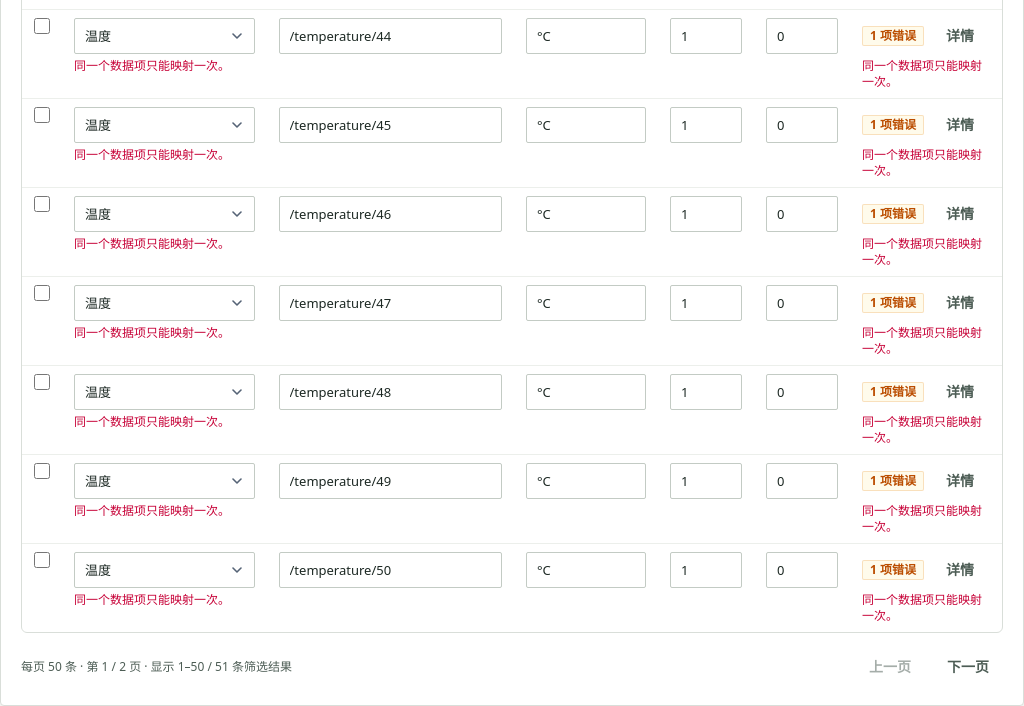
Test: 点位映射表分页 › 删除末页最后一行后自动回到仍有数据的页
(page scrolled)
Click the button with aria-label "点位映射：下一页": [968, 667] box [933,649,1003,685]
(page scrolled)
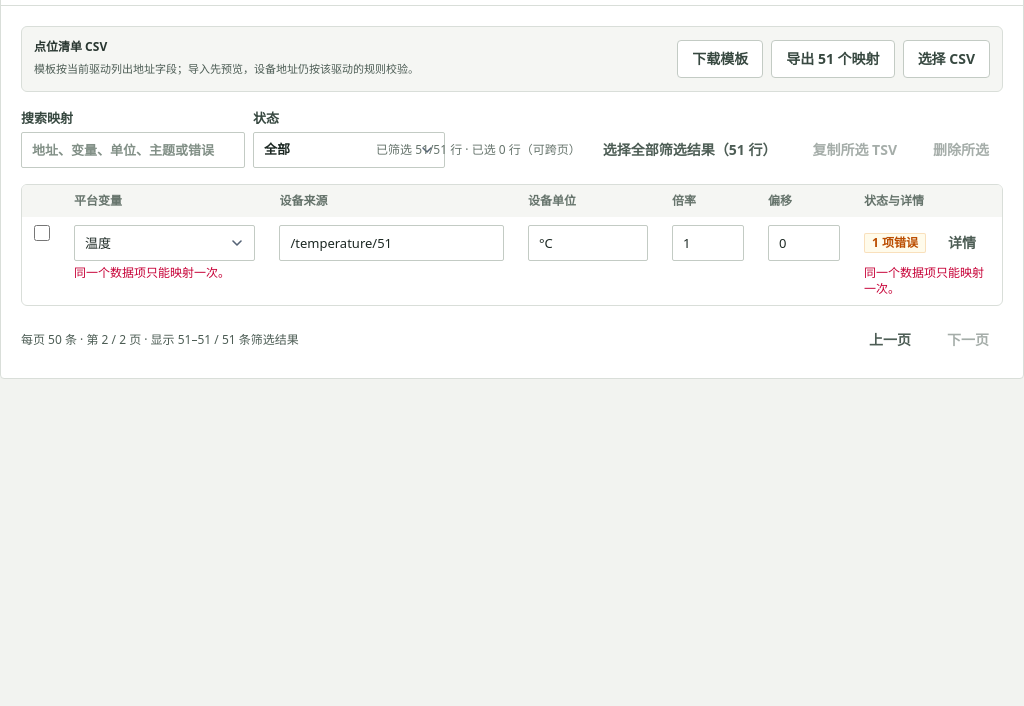
Click the checkbox named "选择第 51 行": [42, 233] box [34,225,50,241]
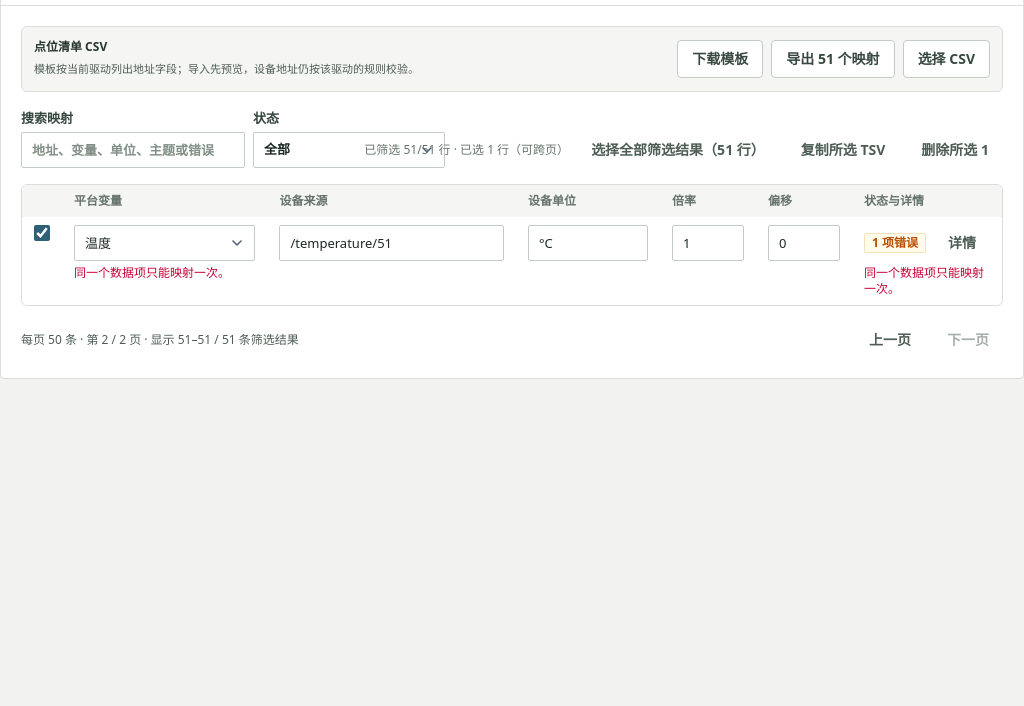
Click the button "删除所选 1": [955, 150] box [907,132,1003,168]
(page scrolled)
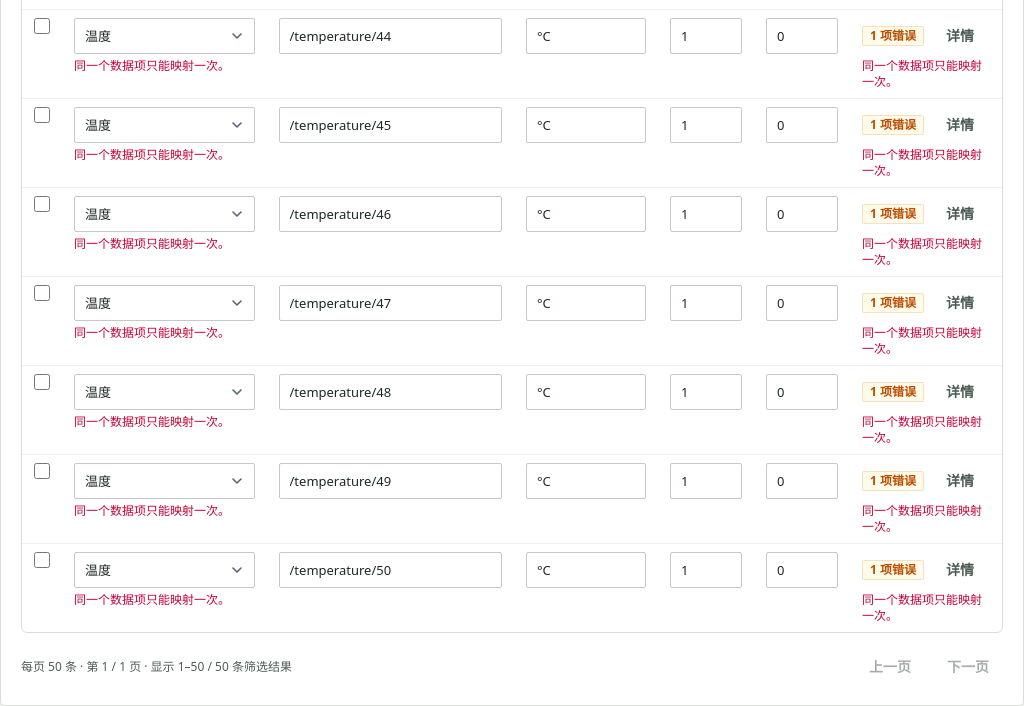
Now the button with aria-label "点位映射：下一页" is disabled, box [933,649,1003,685]
Now the text "每页 50 条 · 第 1 / 1 页 · 显示 1–50 / 50 条筛选结果" is shown, box [21,659,292,675]
